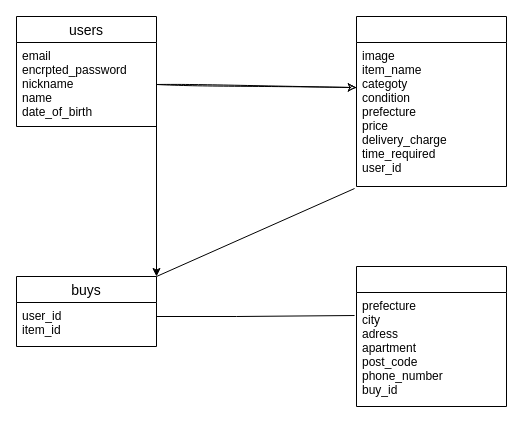
The diagram is 523 pixels wide and 423 high, and some of its shapes have lost their labels. Here are the shapes that lost their labels. From the top down, the box of each, then its label:
(356, 16, 506, 186): items
(356, 266, 506, 406): addresses
